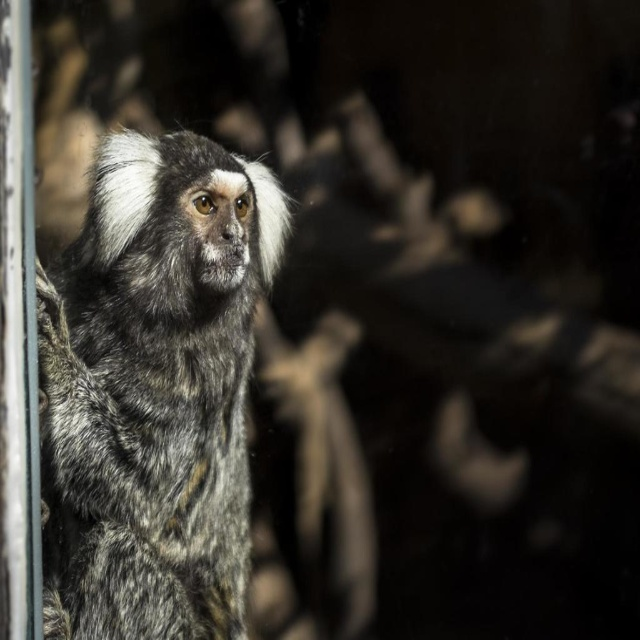Monkey: (35, 122, 297, 639)
